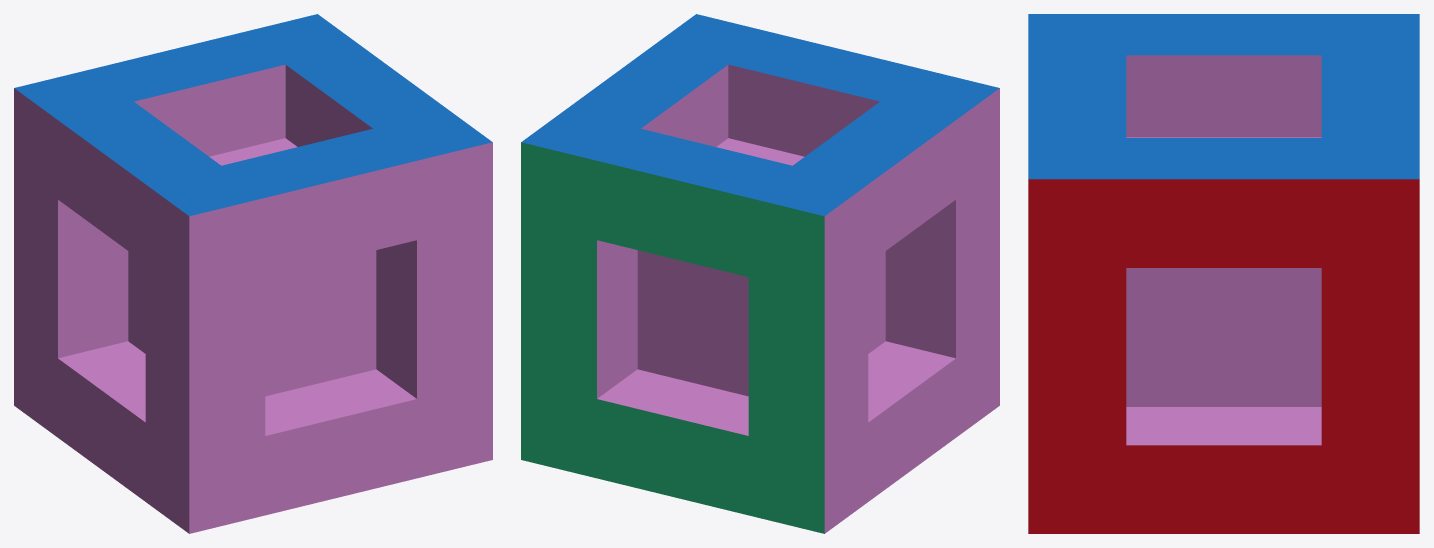
The picture shows the model from 3 angles, left to right: view 1: azimuth 30°, elevation 25°; view 2: azimuth 150°, elevation 25°; view 3: azimuth 270°, elevation 25°; orthographic projection. The views are drawn at different scales.
Visible parts, largest first — view 1: Cube; view 2: Cube; view 3: Cube.
Part boxes in pixels (box(x1,y1,x2,y2)): Cube: box(14, 14, 492, 533); Cube: box(521, 14, 999, 533); Cube: box(1028, 14, 1419, 533).
Size of the model in its own units: 200 by 200 by 200.
